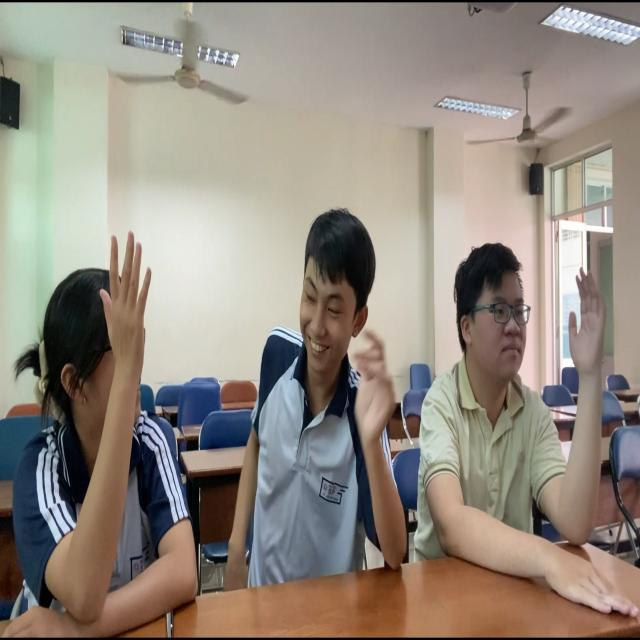raise_hand: (1, 228, 206, 640), (412, 239, 624, 594)
